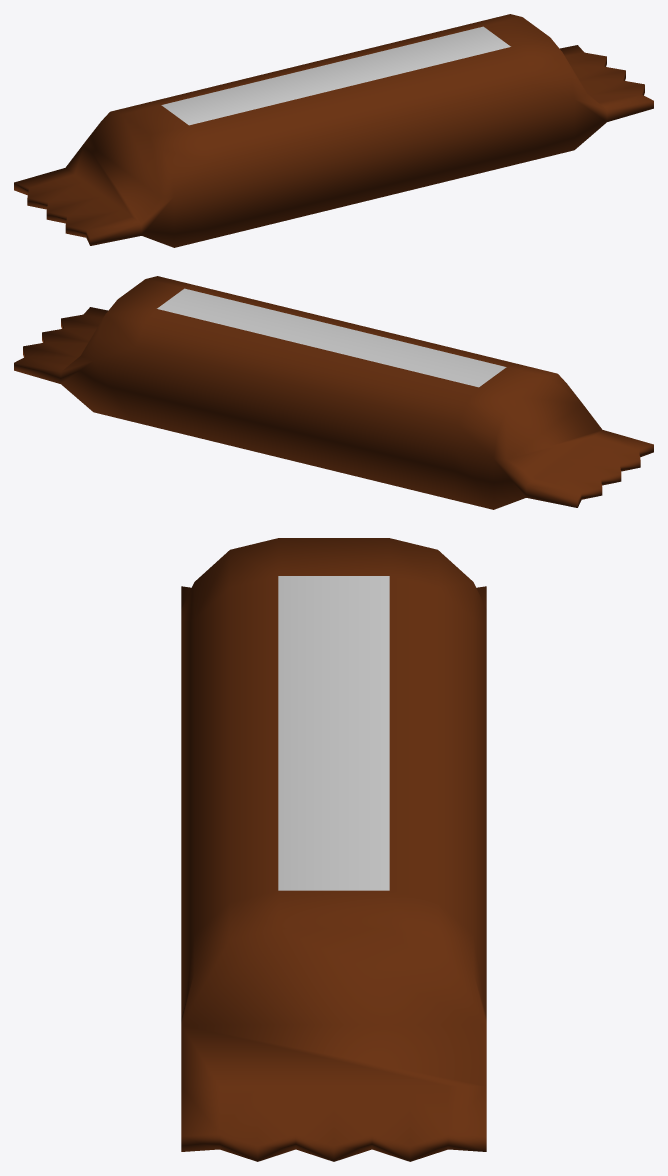
The model's file is Candy3.glb.
3 renders of one model, top to bottom at view 1: azimuth 30°, elevation 25°; view 2: azimuth 150°, elevation 25°; view 3: azimuth 270°, elevation 25°, orthographic. The views are drawn at different scales.
Visible parts, largest first — view 1: Candy3; view 2: Candy3; view 3: Candy3.
Boxes of the visible parts, left/top/right/bottom form: Candy3: left=14, top=14, right=653, bottom=247; Candy3: left=14, top=276, right=653, bottom=509; Candy3: left=181, top=538, right=486, bottom=1161.
Size of the model in its own units: 0.3997 by 0.0628 by 0.0911.
